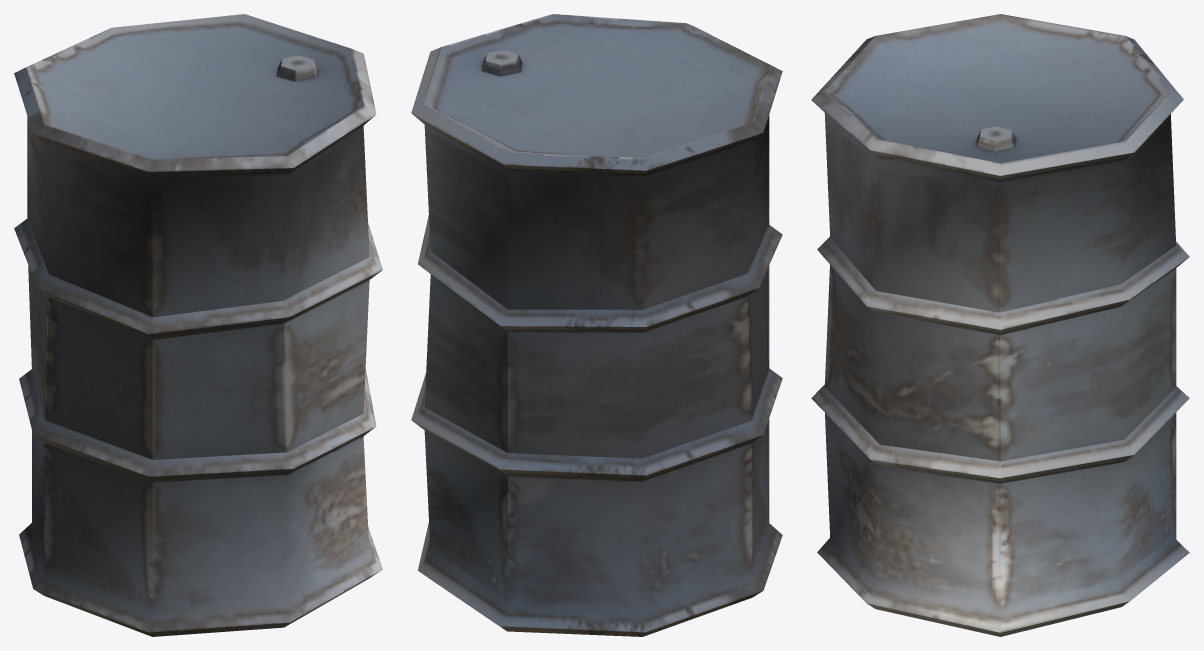
The model's file is Barrel.fbx.
The picture shows the model from 3 angles, left to right: view 1: azimuth 30°, elevation 25°; view 2: azimuth 150°, elevation 25°; view 3: azimuth 270°, elevation 25°; orthographic projection.
Visible parts, largest first — view 1: Barrel; view 2: Barrel; view 3: Barrel.
Boxes of the visible parts, x1=… form: Barrel: x1=14, y1=14, x2=382, y2=636; Barrel: x1=411, y1=14, x2=782, y2=636; Barrel: x1=811, y1=14, x2=1189, y2=636.
Size of the model in its own units: 29.78 by 41.26 by 29.78.
